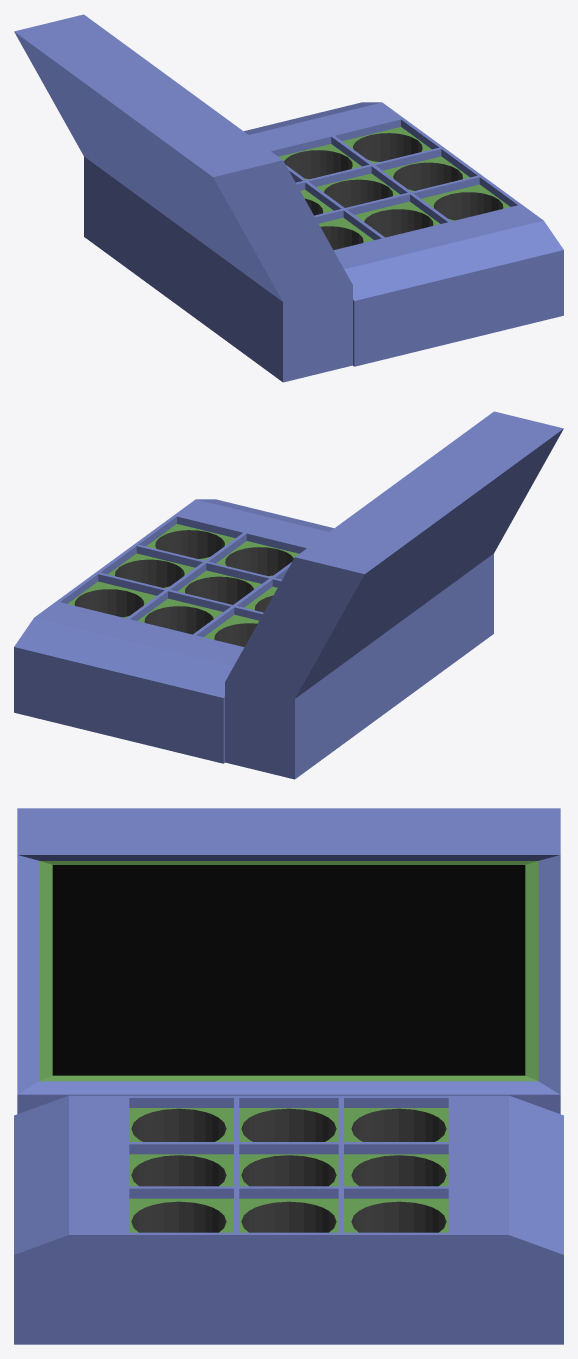
The model's file is WhackAMoleMachine.fbx.
The picture shows the model from 3 angles, top to bottom: view 1: azimuth 30°, elevation 25°; view 2: azimuth 150°, elevation 25°; view 3: azimuth 270°, elevation 25°; orthographic projection. The views are drawn at different scales.
Parts seen in each view (by area): view 1: Sphere.001; view 2: Sphere.001; view 3: Sphere.001.
Part boxes in pixels (<box>): Sphere.001: <box>14,14,563,382</box>; Sphere.001: <box>14,411,563,779</box>; Sphere.001: <box>14,808,563,1344</box>.
Size of the model in its own units: 1000 by 609 by 1000.
